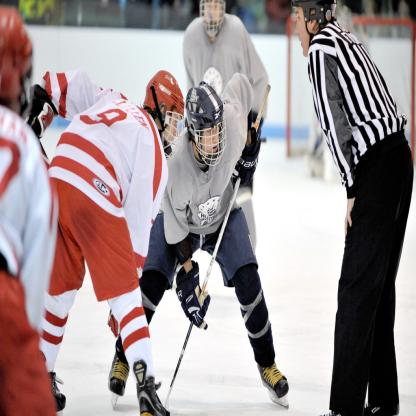Helmet: (140, 66, 190, 158), (182, 81, 228, 170), (0, 0, 32, 118), (285, 0, 350, 51), (199, 0, 232, 43)
